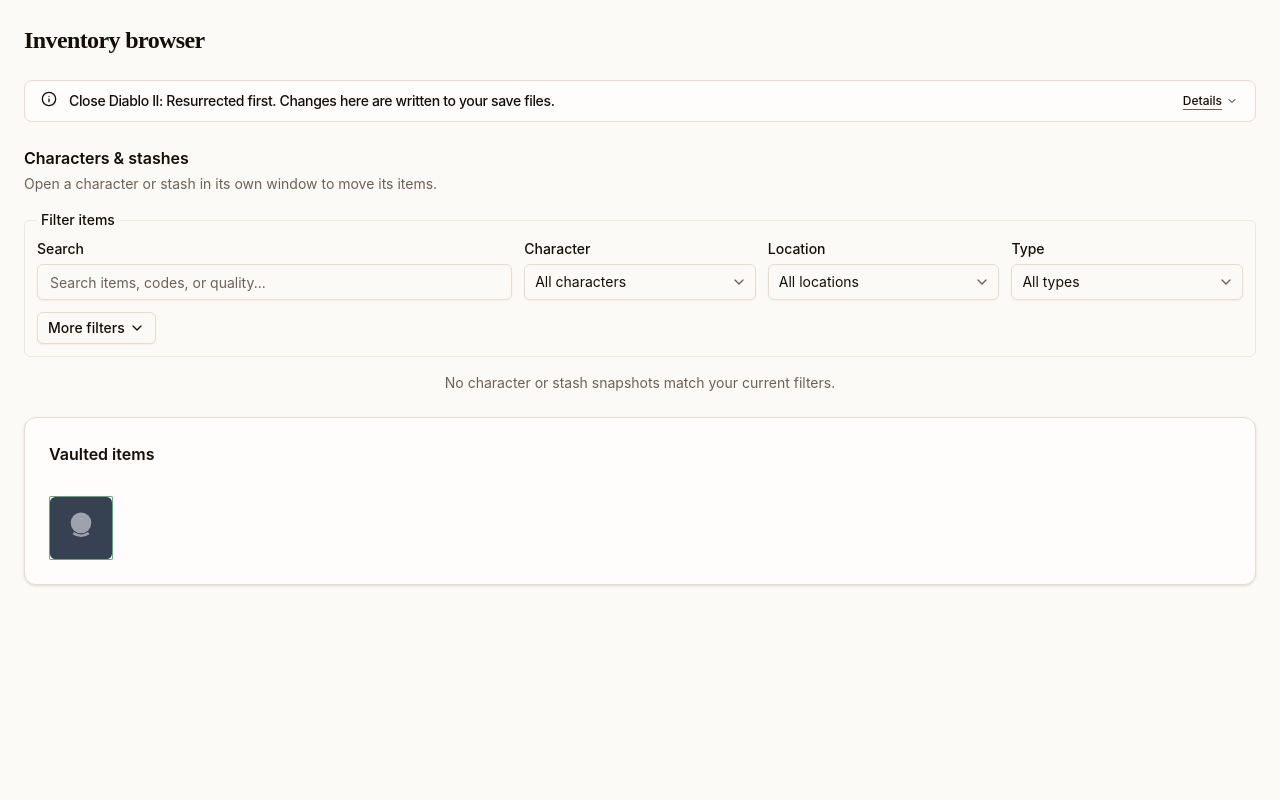
Scenario: When InventoryBrowserMain is rendered › If the search and type filters are set › Then removing the Type chip sets the type back to all types and moves the focus to the search box
The width and height of the screenshot is (1280, 800).
Expected: the button named "Vaulted item Shako" is shown, [49, 496, 113, 560]
Click the dropdown labelled "type" at x=1127, y=282, box [1011, 264, 1243, 300]
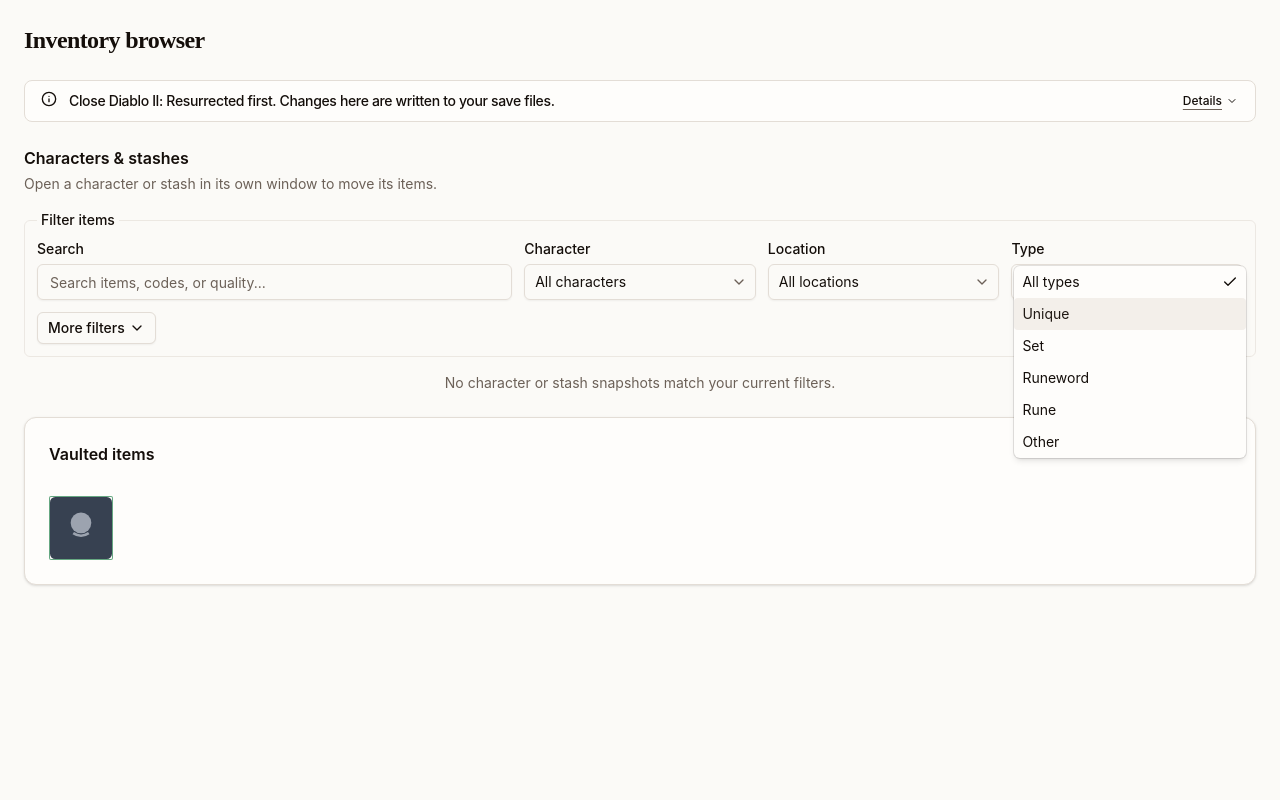
Click the option "Unique" at x=1130, y=314, box [1014, 298, 1246, 330]
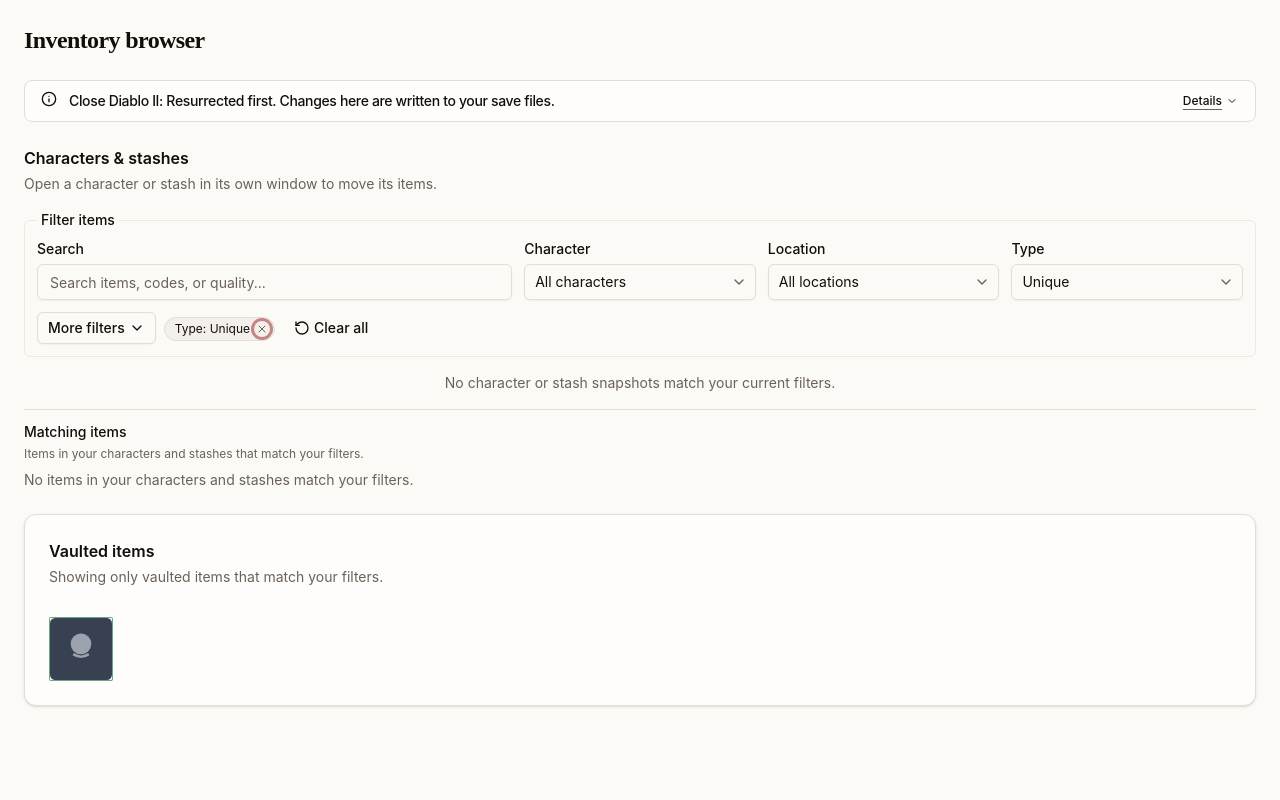
Click the button named "Remove filter: Type: Unique" at x=262, y=329, box [254, 321, 270, 337]
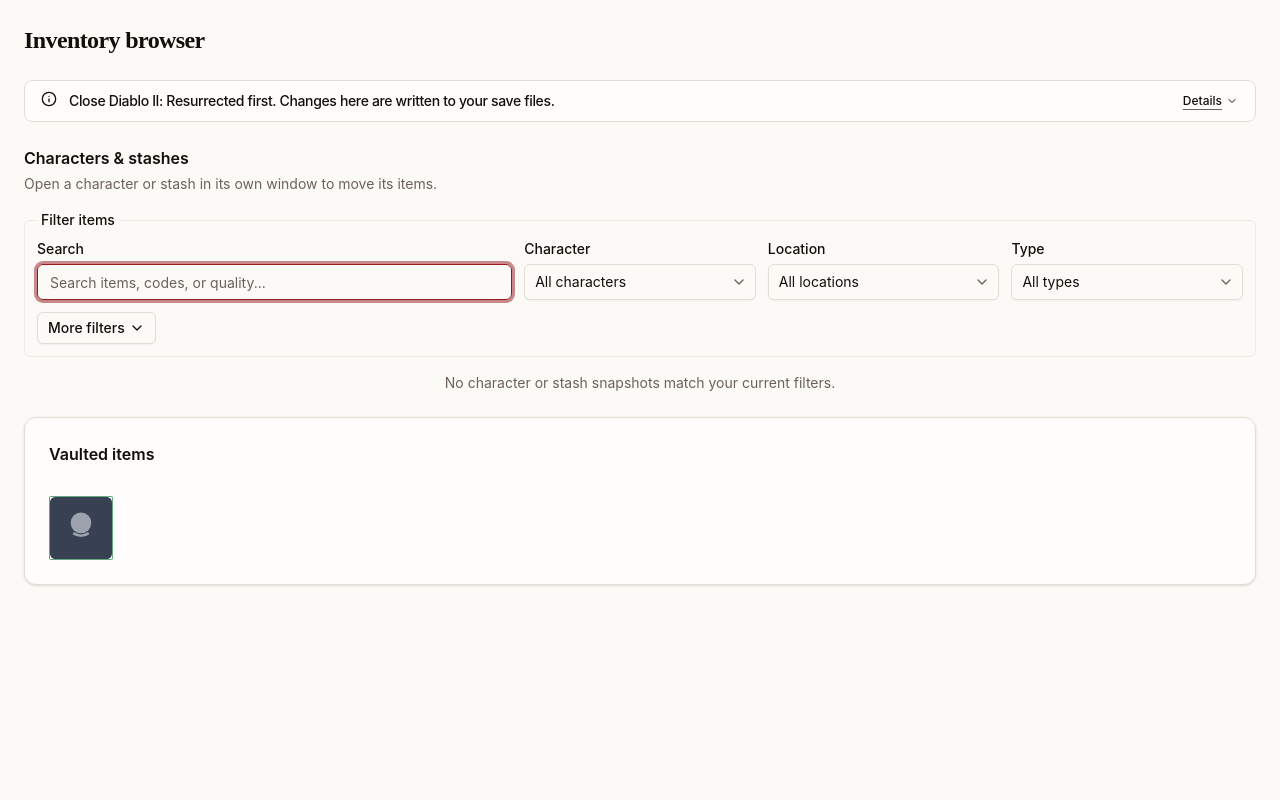
Expected: the dropdown labelled "type" shows "All types", [1011, 264, 1243, 300]
